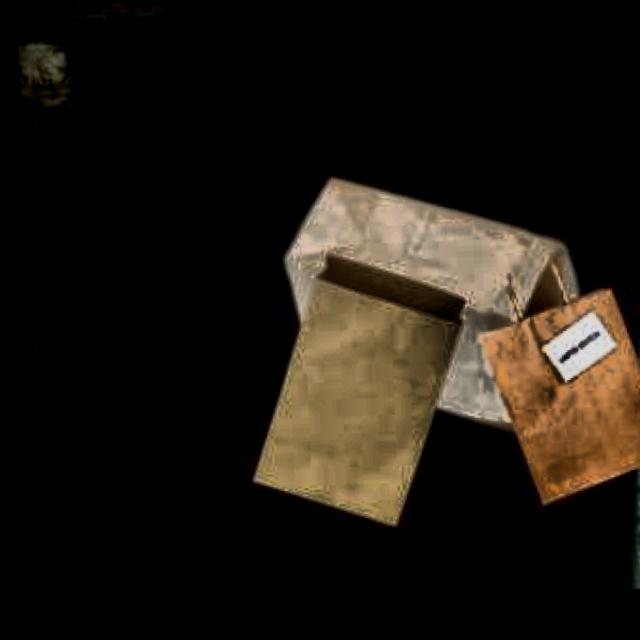Paper-bag: (257, 164, 619, 506), (221, 251, 507, 578), (450, 249, 640, 538)
